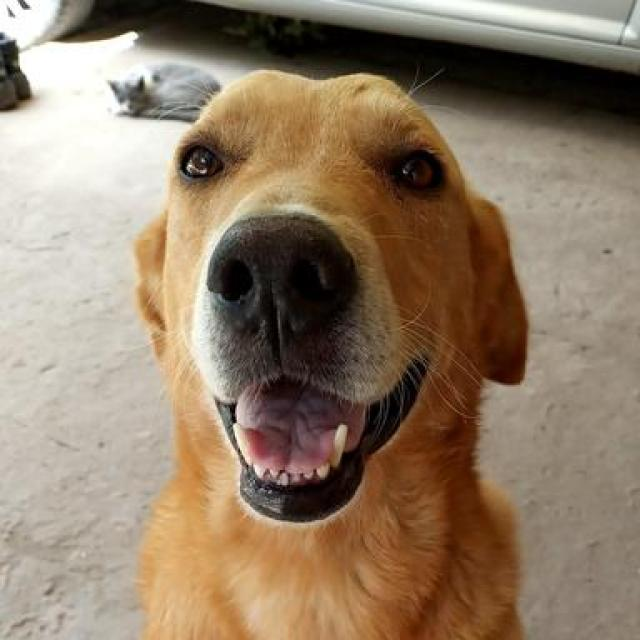happy: (75, 47, 585, 586)
